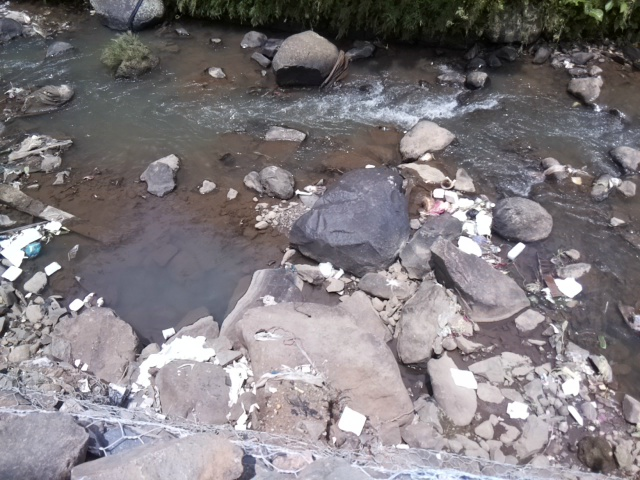Sampah_Plastik: (132, 331, 216, 392), (255, 366, 323, 389), (222, 358, 253, 404), (424, 199, 448, 217), (317, 259, 335, 279), (23, 241, 41, 259), (465, 206, 479, 220)
Sampah_Styrofoam: (1, 224, 43, 263), (336, 404, 369, 437), (449, 366, 480, 392), (555, 274, 584, 297), (504, 399, 531, 421), (457, 234, 481, 258), (474, 211, 496, 236), (430, 186, 459, 203), (453, 197, 476, 218), (505, 241, 526, 261), (1, 265, 23, 284), (43, 261, 63, 276), (67, 297, 83, 311)
